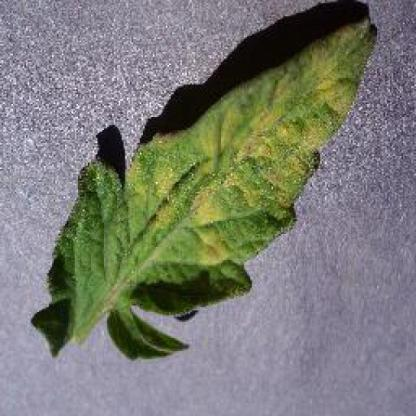Tomato_Leaf_Mold: (122, 22, 377, 314)
